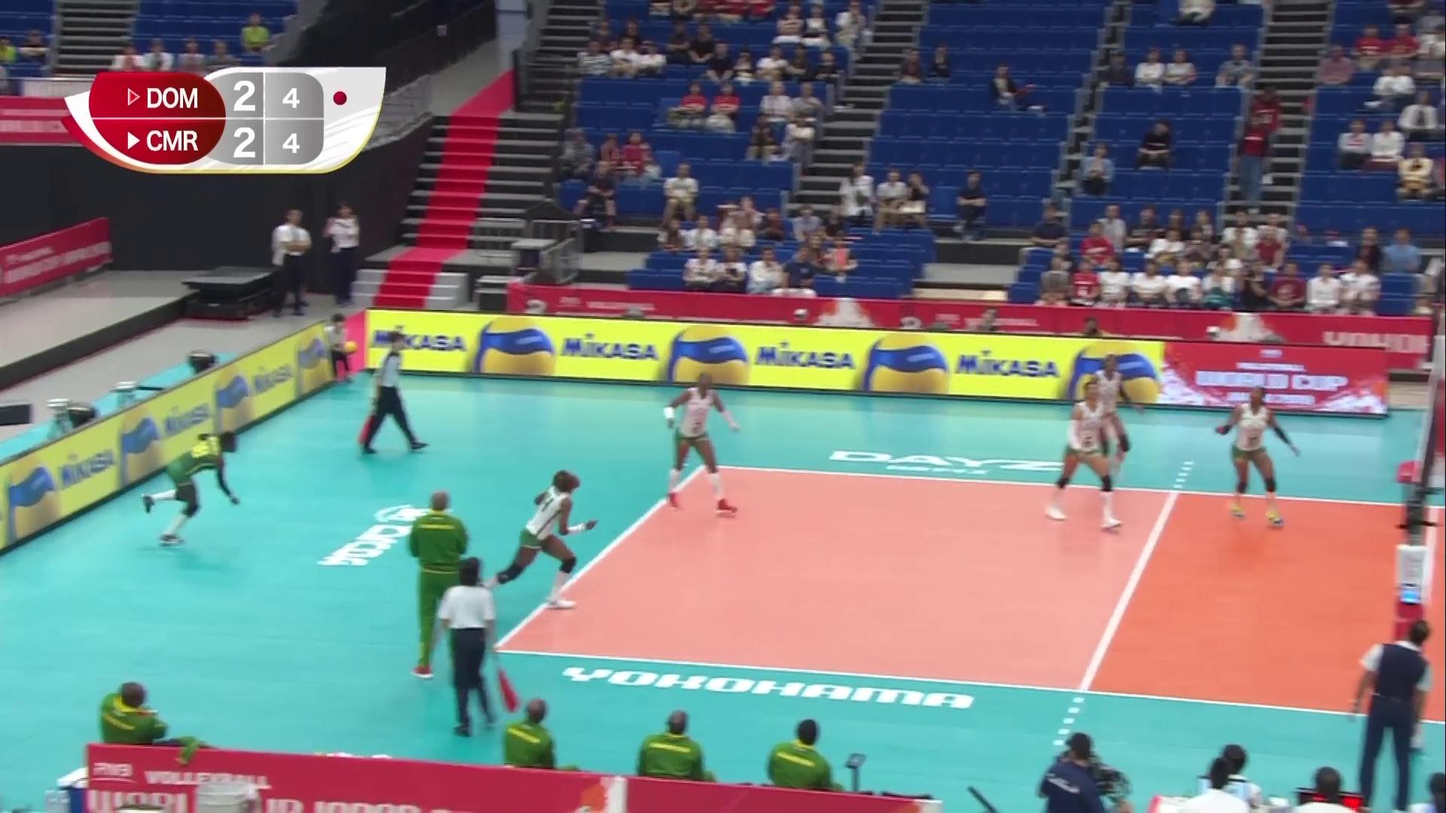player: (475, 470, 594, 611), (139, 431, 243, 550), (1040, 378, 1120, 529), (1213, 384, 1295, 530), (661, 372, 739, 517), (1079, 355, 1141, 491)
refree: (1352, 625, 1433, 811), (444, 556, 519, 735), (362, 330, 428, 454)
